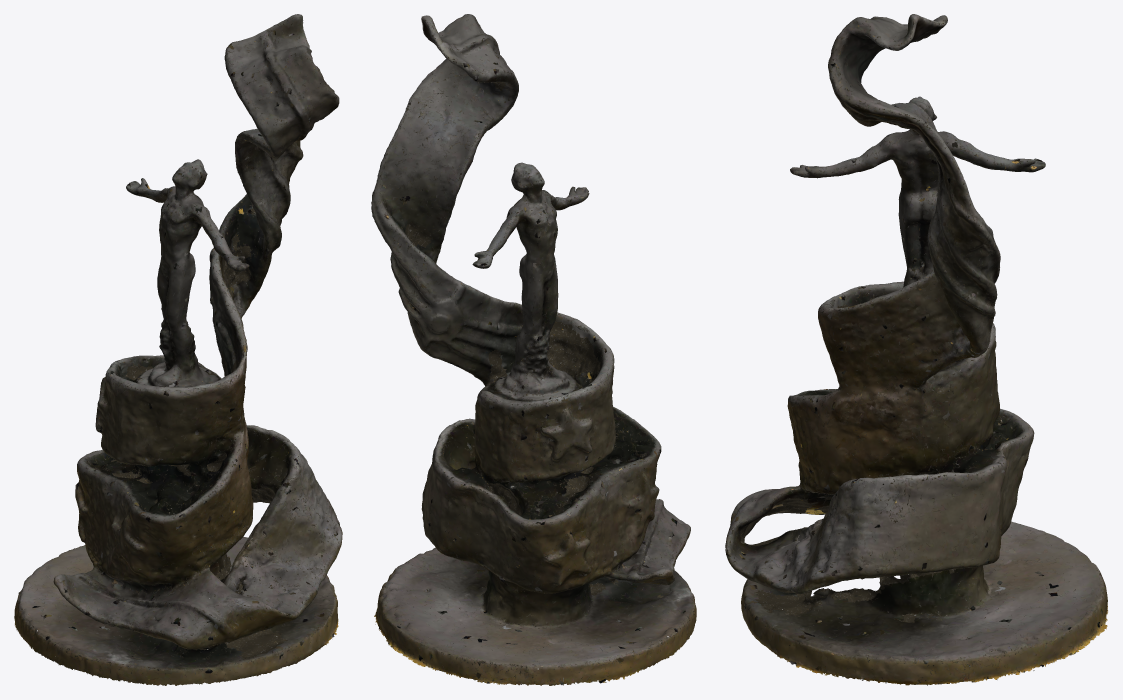
The model's file is UPOU__front_statue_Baked.fbx.
3 renders of one model, left to right at view 1: azimuth 30°, elevation 25°; view 2: azimuth 150°, elevation 25°; view 3: azimuth 270°, elevation 25°, orthographic. The views are drawn at different scales.
Visible parts, largest first — view 1: UPOU__front_statue_2024_10_21; view 2: UPOU__front_statue_2024_10_21; view 3: UPOU__front_statue_2024_10_21.
Boxes of the visible parts, x1,y1,x2,y2 form: UPOU__front_statue_2024_10_21: [14, 14, 342, 685]; UPOU__front_statue_2024_10_21: [371, 14, 696, 685]; UPOU__front_statue_2024_10_21: [725, 14, 1107, 685].
Size of the model in its own units: 367 by 718 by 377.
